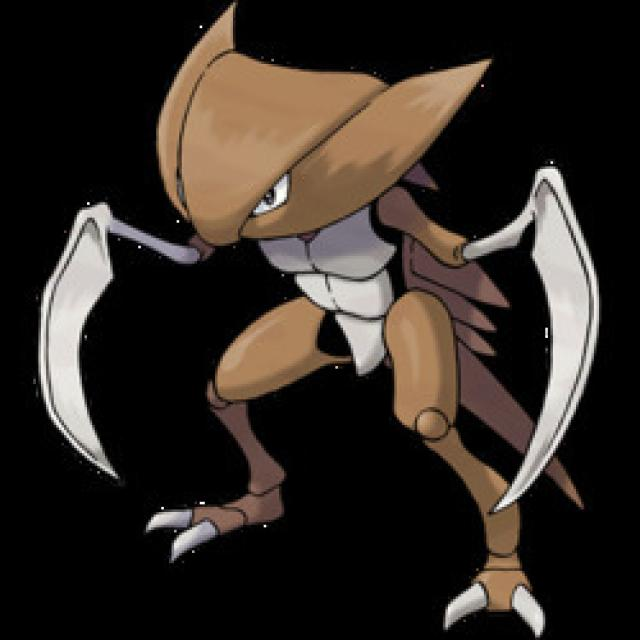Kabutops: (65, 7, 613, 563)
